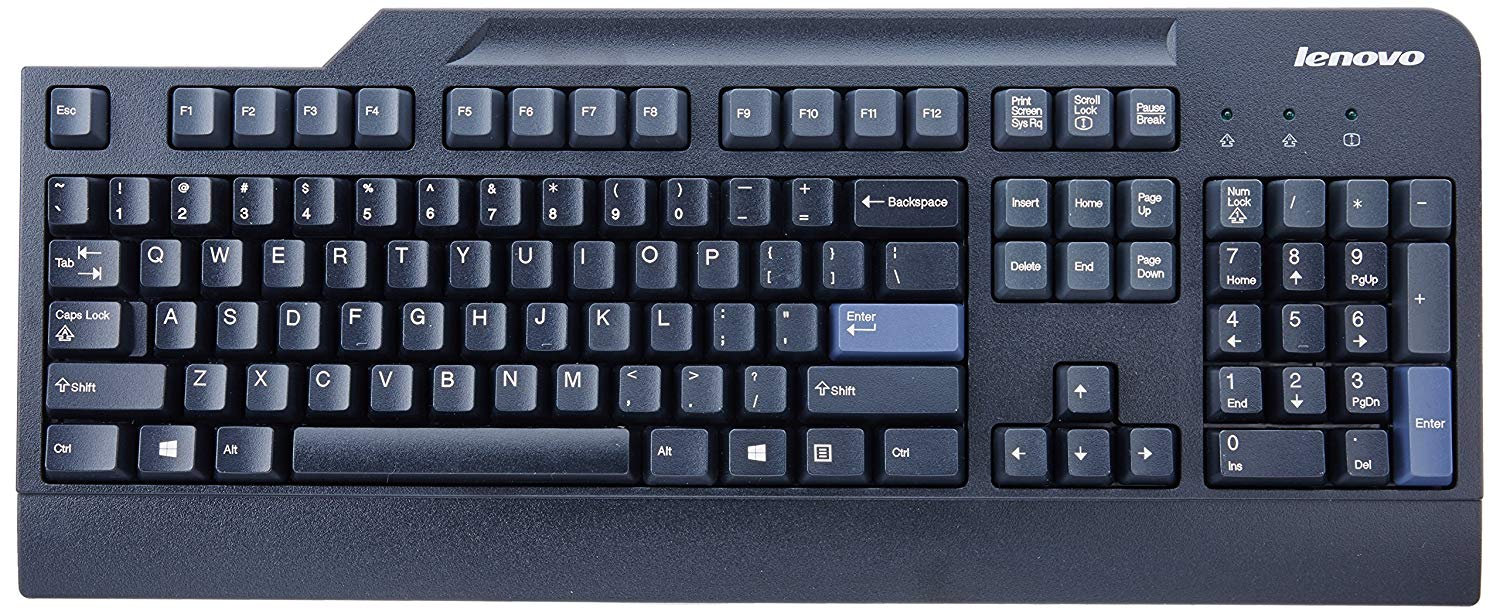Keyboard: (2, 1, 1500, 610)
